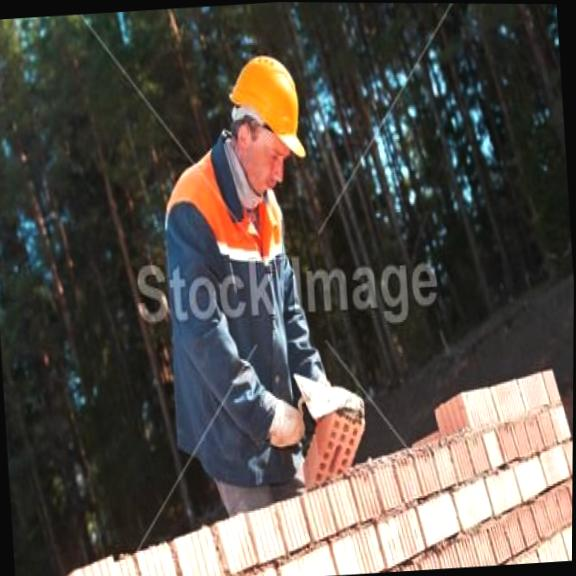no_safety_vest: (151, 143, 314, 491)
